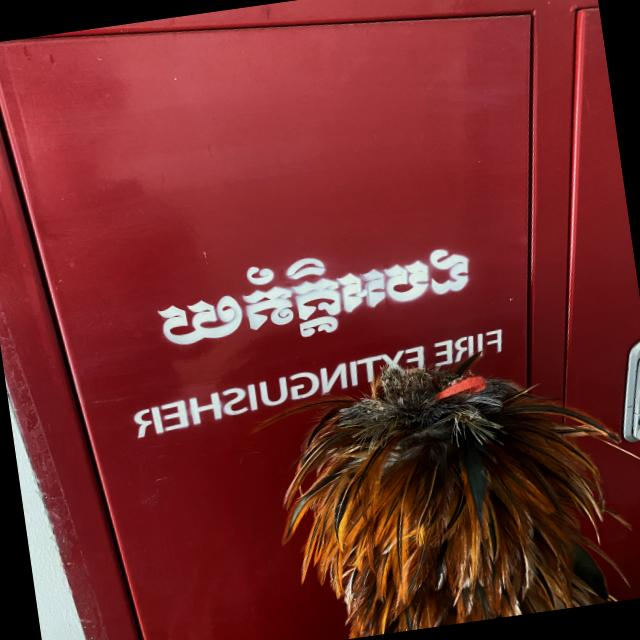Yolov11kh: (140, 224, 499, 383)
